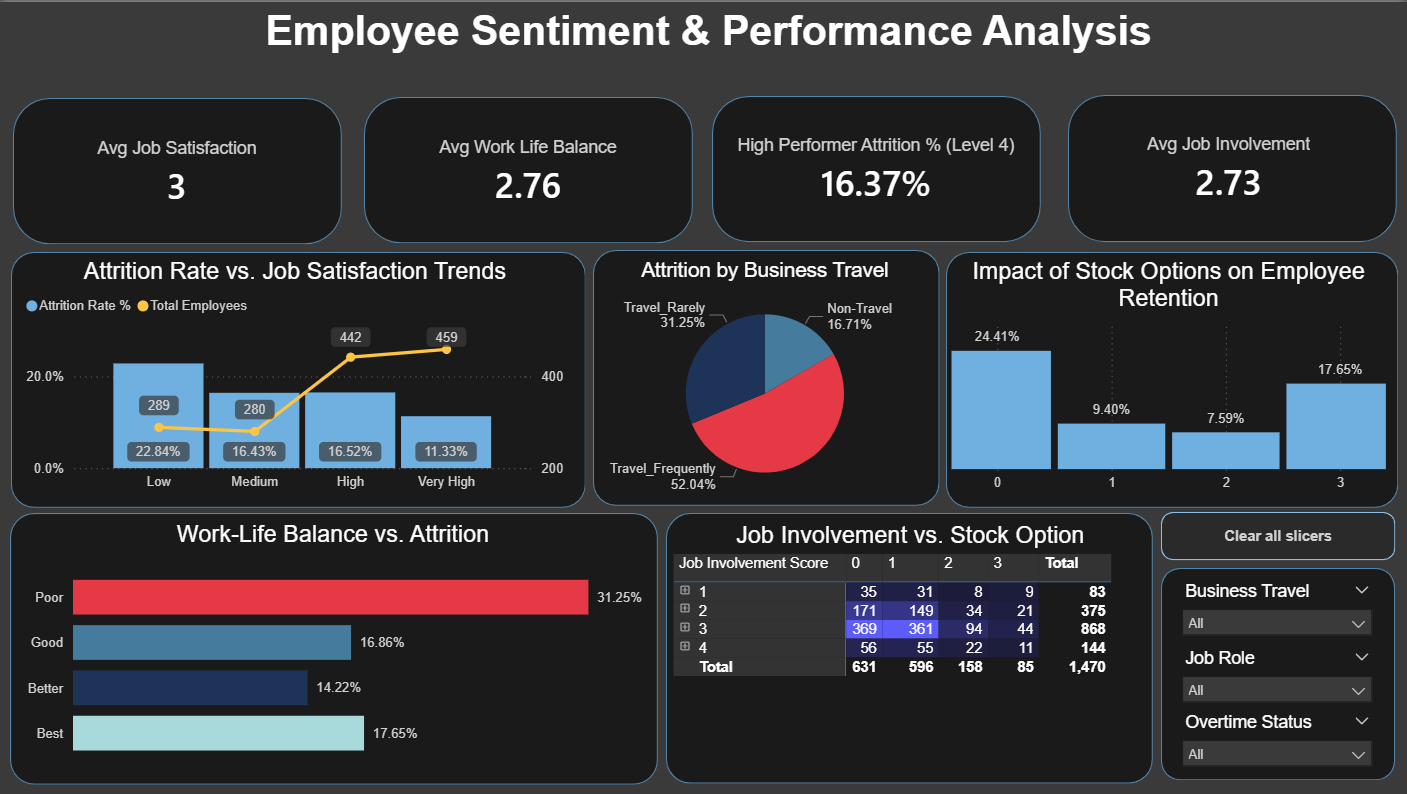

The dashboard page shown, as its layout file describes it:
{"tool":"powerbi","page":{"name":"📈 Employee Sentiment & Performance","canvas":[1280,720],"ordinal":3},"visuals":[{"type":"group","id":"g1","title":"Background","box":[10,84.4,1261.8,626.6],"z":0},{"type":"shape","box":[10.5,226.8,522.5,232.5],"z":0,"group":"g1"},{"type":"textbox","box":[9.7,0,1270.3,68.1],"z":1000},{"type":"shape","box":[860.7,226.8,411.2,232.5],"z":1000,"group":"g1"},{"type":"shape","box":[539.6,225.3,315.1,232.5],"z":2000},{"type":"shape","box":[10,464,589,247],"z":2000,"group":"g1"},{"type":"lineClusteredColumnComboChart","title":"Attrition Rate vs. Job Satisfaction Trends","fields":{"Category":["Satisfaction_Map.Satisfaction_Text"],"Y":["_Measures.Attrition Rate %"],"Y2":["_Measures.Total Employees"]},"box":[18.9,232.5,500,219.1],"z":3000},{"type":"shape","box":[606.1,464.3,442.6,246.1],"z":3000,"group":"g1"},{"type":"clusteredColumnChart","title":"Impact of Stock Options on Employee Retention","fields":{"Y":["_Measures.Attrition Rate %"],"Category":["v_DimSatisfaction.Stock Option Level"]},"box":[860.9,232.5,404.9,220],"z":4000},{"type":"shape","box":[1056.4,514.1,212.8,193],"z":4000,"group":"g1"},{"type":"shape","box":[12.6,86.7,299,133],"z":5000,"group":"g1"},{"type":"pivotTable","title":"Job Involvement vs. Stock Option","fields":{"Rows":["v_DimSatisfaction.Job Involvement Score","v_DimJobDetails.Department"],"Columns":["v_DimSatisfaction.Stock Option Level"],"Values":["_Measures.Total Employees"]},"box":[607.8,473.1,440.8,231.6],"z":5000},{"type":"shape","box":[331.8,86.4,299,133],"z":6000,"group":"g1"},{"type":"barChart","title":"Work-Life Balance vs. Attrition","fields":{"Y":["_Measures.Attrition Rate %"],"Category":["v_DimSatisfaction.Work Life Balance"]},"box":[17.5,471.7,572.9,231.5],"z":6000},{"type":"shape","box":[648.3,84.9,299,132.9],"z":7000,"group":"g1"},{"type":"slicer","fields":{"Values":["v_DimJobDetails.Business Travel"]},"box":[1065.8,521.6,192.5,64.8],"z":7000},{"type":"shape","box":[972.2,84.4,299,133.8],"z":8000,"group":"g1"},{"type":"slicer","fields":{"Values":["v_DimJobDetails.Job Role"]},"box":[1065.8,582.5,192.5,64],"z":8000},{"type":"slicer","fields":{"Values":["v_DimJobDetails.Overtime Status"]},"box":[1065.8,640.5,192.5,64],"z":9000},{"type":"actionButton","box":[1056.3,464,213,43.8],"z":10000},{"type":"cardVisual","fields":{"Data":["_Measures.Avg Job Saitsfaction"]},"box":[18.5,78.8,287.9,153.7],"z":11000},{"type":"cardVisual","fields":{"Data":["_Measures.Avg Work Life Balance"]},"box":[332.2,74.5,299,161.6],"z":12000},{"type":"cardVisual","fields":{"Data":["_Measures.High Performer Attrition %"]},"box":[648.2,70,299,166.1],"z":13000},{"type":"cardVisual","fields":{"Data":["_Measures.Avg Env Satisfaction"]},"box":[972.3,73.6,292.7,158.9],"z":14000},{"type":"pieChart","title":"Attrition by Business Travel","fields":{"Y":["_Measures.Attrition Rate %"],"Series":["v_DimJobDetails.Business Travel"]},"box":[546.7,232.5,299.9,225.3],"z":15000}]}

Visuals, with their boxes in screenshot pixels (x1, y1, x2, y2), scaled from the page's 1280x720 canvas onto the 1407x794 screenshot:
"Background" group: left=11, top=93, right=1398, bottom=784
shape: left=12, top=250, right=586, bottom=507
textbox: left=11, top=0, right=1406, bottom=75
shape: left=946, top=250, right=1398, bottom=507
shape: left=593, top=248, right=940, bottom=505
shape: left=11, top=512, right=658, bottom=784
"Attrition Rate vs. Job Satisfaction Trends" lineClusteredColumnComboChart: left=21, top=256, right=570, bottom=498
shape: left=666, top=512, right=1153, bottom=783
"Impact of Stock Options on Employee Retention" clusteredColumnChart: left=946, top=256, right=1391, bottom=499
shape: left=1161, top=567, right=1395, bottom=780
shape: left=14, top=96, right=343, bottom=242
"Job Involvement vs. Stock Option" pivotTable: left=668, top=522, right=1153, bottom=777
shape: left=365, top=95, right=693, bottom=242
"Work-Life Balance vs. Attrition" barChart: left=19, top=520, right=649, bottom=775
shape: left=713, top=94, right=1041, bottom=240
slicer - v_DimJobDetails.Business Travel: left=1172, top=575, right=1383, bottom=647
shape: left=1069, top=93, right=1397, bottom=241
slicer - v_DimJobDetails.Job Role: left=1172, top=642, right=1383, bottom=713
slicer - v_DimJobDetails.Overtime Status: left=1172, top=706, right=1383, bottom=777
actionButton: left=1161, top=512, right=1395, bottom=560
cardVisual - _Measures.Avg Job Saitsfaction: left=20, top=87, right=337, bottom=256
cardVisual - _Measures.Avg Work Life Balance: left=365, top=82, right=694, bottom=260
cardVisual - _Measures.High Performer Attrition %: left=713, top=77, right=1041, bottom=260
cardVisual - _Measures.Avg Env Satisfaction: left=1069, top=81, right=1391, bottom=256
"Attrition by Business Travel" pieChart: left=601, top=256, right=931, bottom=505
